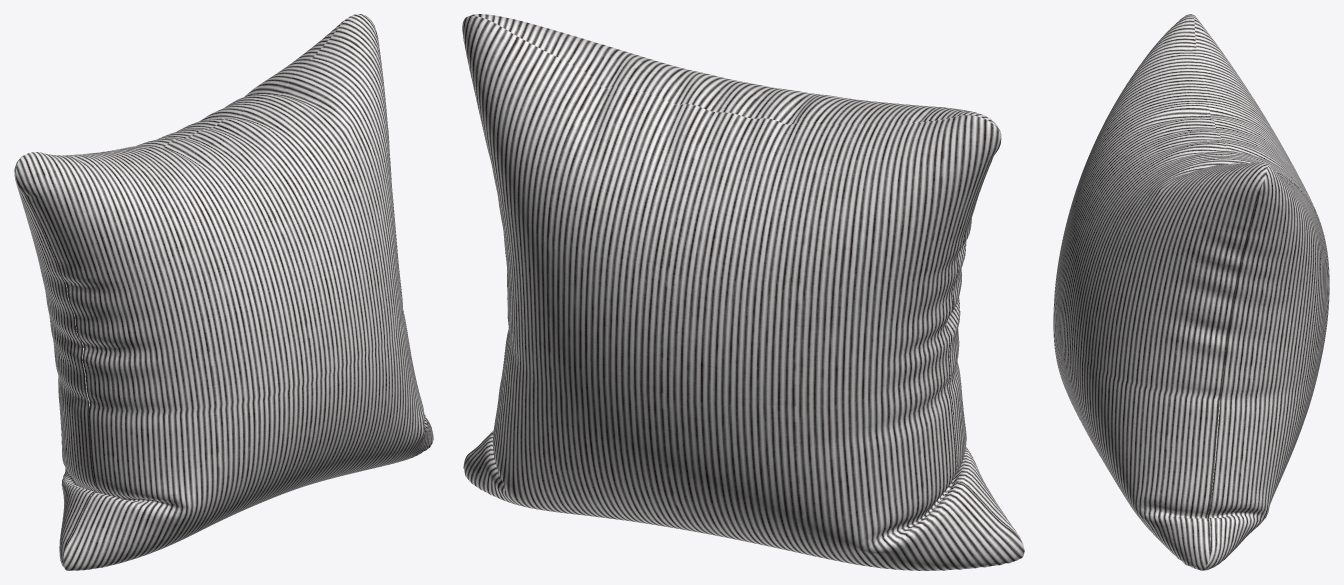
Rendered from jonny.gltf.
3 renders of one model, left to right at view 1: azimuth 30°, elevation 25°; view 2: azimuth 150°, elevation 25°; view 3: azimuth 270°, elevation 25°, orthographic. The views are drawn at different scales.
Visible parts, largest first — view 1: Mesh; view 2: Mesh; view 3: Mesh.
Boxes of the visible parts, x1=… form: Mesh: x1=14, y1=14, x2=433, y2=570; Mesh: x1=462, y1=14, x2=1024, y2=570; Mesh: x1=1053, y1=14, x2=1329, y2=570.
Bounding box in the file's own units: 0.6022 × 0.5543 × 0.3582.
1 material, 1 textured.
